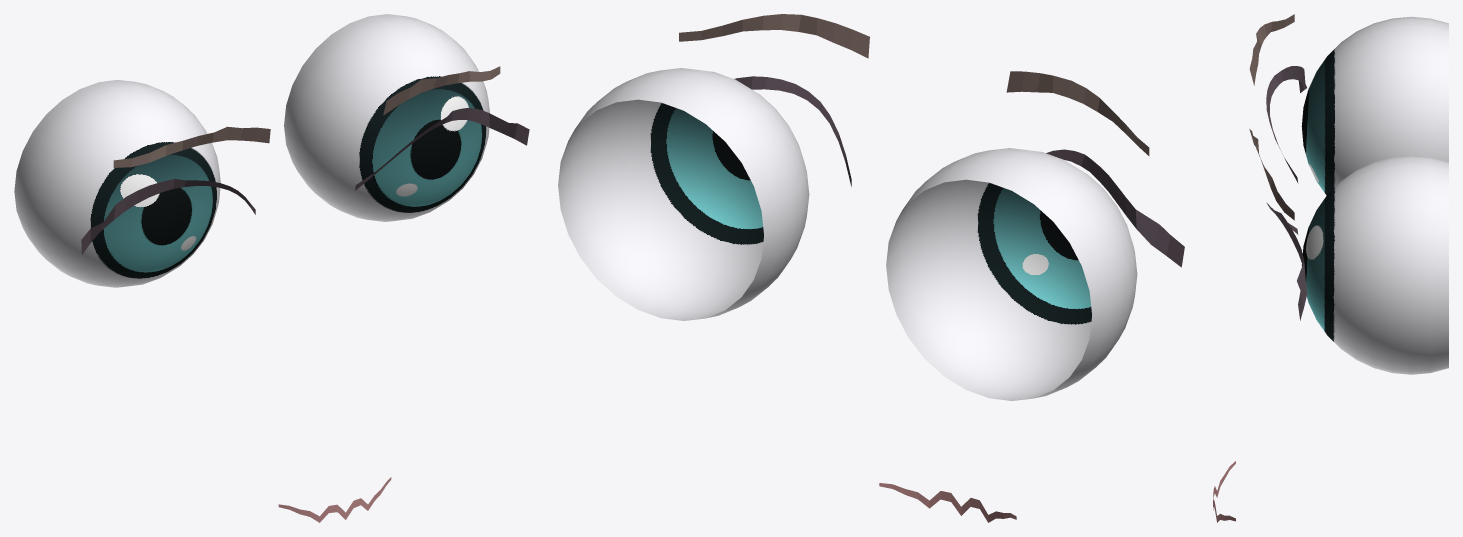
Rendered from head_anime_male.glb.
3 renders of one model, left to right at view 1: azimuth 30°, elevation 25°; view 2: azimuth 150°, elevation 25°; view 3: azimuth 270°, elevation 25°, orthographic. The views are drawn at different scales.
Parts seen in each view (by area): view 1: AM_Eyes_Anime.001; view 2: AM_Eyes_Anime.001; view 3: AM_Eyes_Anime.001.
Boxes of the visible parts, box(x1,y1,x2,y2) form: AM_Eyes_Anime.001: box(14, 14, 529, 522); AM_Eyes_Anime.001: box(558, 14, 1184, 522); AM_Eyes_Anime.001: box(1213, 14, 1448, 522).
Bounding box in the file's own units: 0.1216 × 0.1037 × 0.0524.
Materials: 4 (1 with a texture image).
